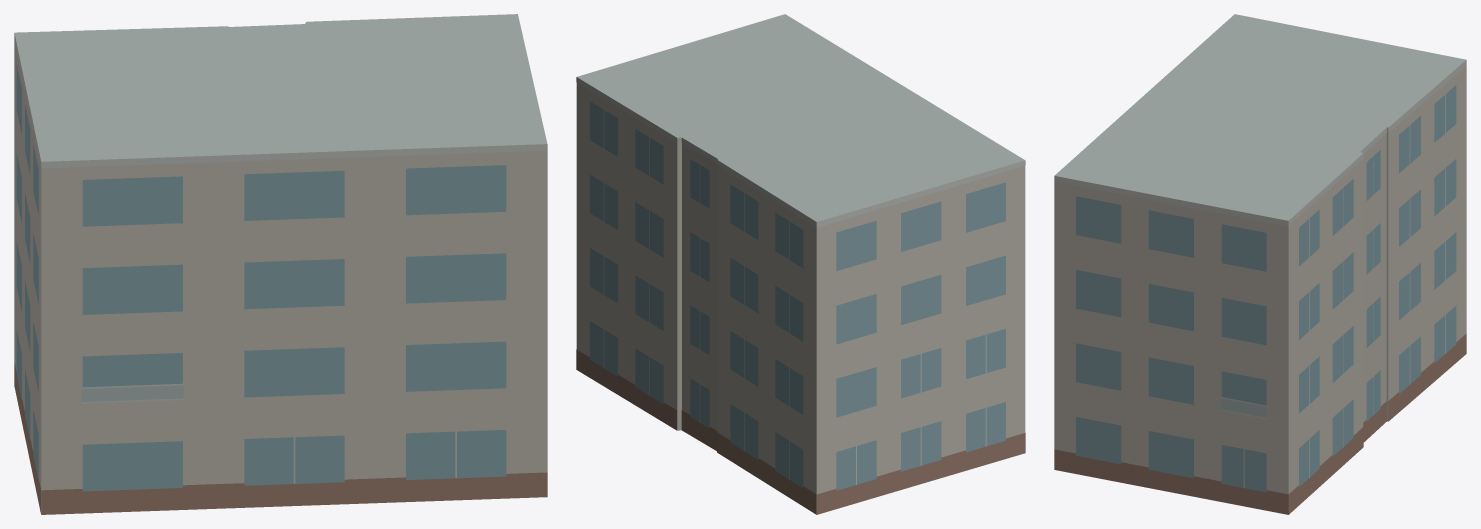
Rendered from survey-upis-32921910.glb.
3 renders of one model, left to right at view 1: azimuth 30°, elevation 25°; view 2: azimuth 150°, elevation 25°; view 3: azimuth 270°, elevation 25°, orthographic. The views are drawn at different scales.
Parts seen in each view (by area): view 1: survey-upis-32921910.tmp; view 2: survey-upis-32921910.tmp; view 3: survey-upis-32921910.tmp.
Part boxes in pixels (<box>): survey-upis-32921910.tmp: <box>14,14,547,514</box>; survey-upis-32921910.tmp: <box>576,14,1025,514</box>; survey-upis-32921910.tmp: <box>1054,14,1466,514</box>.
Size of the model in its own units: 19.55 by 12.95 by 16.47.
